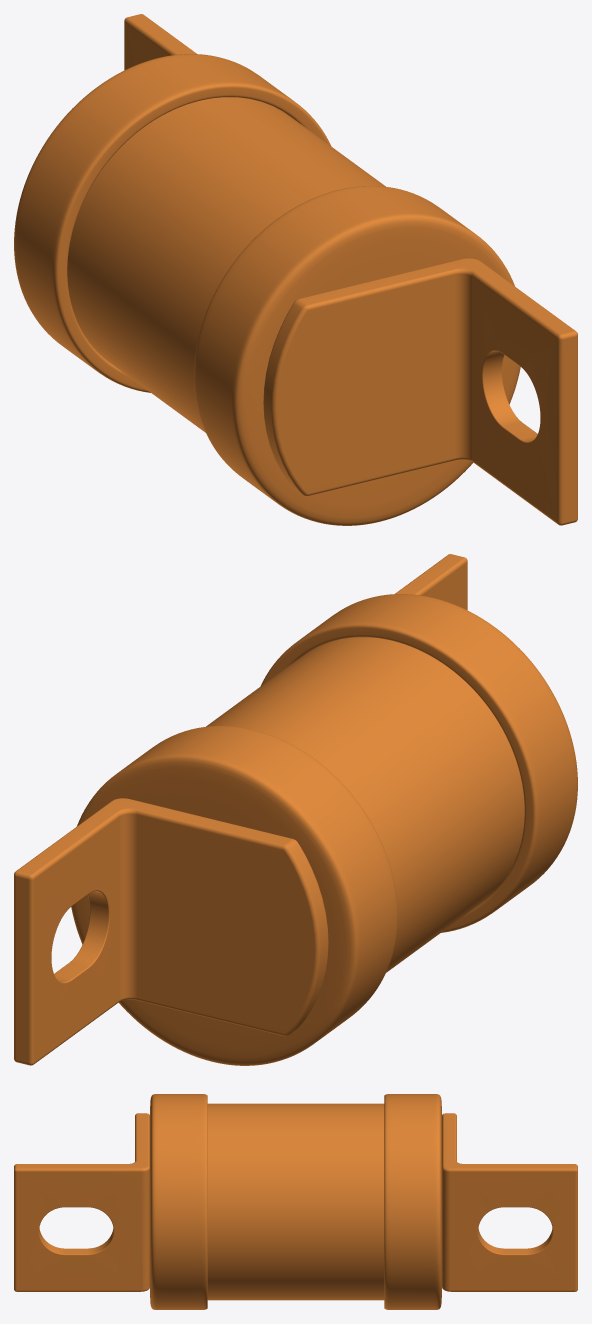
The model's file is consumable_fuse_mega_orange_a01.glb.
The picture shows the model from 3 angles, top to bottom: view 1: azimuth 30°, elevation 25°; view 2: azimuth 150°, elevation 25°; view 3: azimuth 270°, elevation 25°; orthographic projection. The views are drawn at different scales.
Size of the model in its own units: 0.0394 by 0.0394 by 0.1029.
